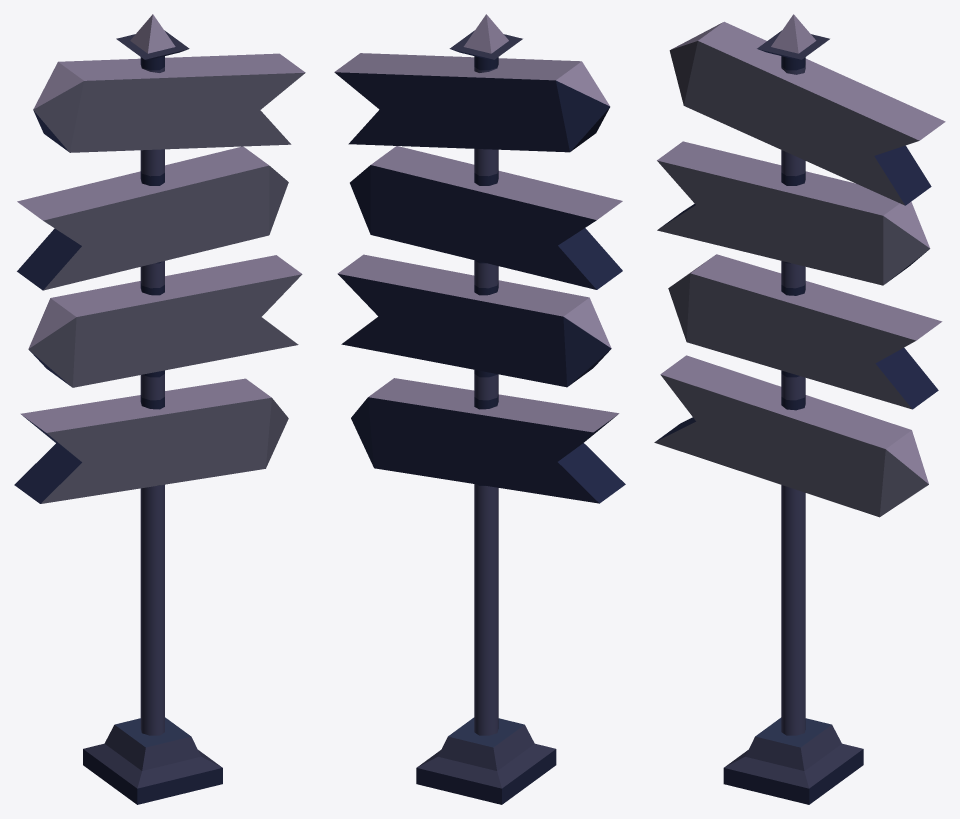
Rendered from Sigh.fbx.
The picture shows the model from 3 angles, left to right: view 1: azimuth 30°, elevation 25°; view 2: azimuth 150°, elevation 25°; view 3: azimuth 330°, elevation 25°; orthographic projection.
Visible parts, largest first — view 1: PlacaSeta; view 2: PlacaSeta; view 3: PlacaSeta.
Boxes of the visible parts, x1,y1,x2,y2 form: PlacaSeta: (14,14,305,804); PlacaSeta: (334,14,625,804); PlacaSeta: (654,14,945,804).
Bounding box in the file's own units: 56.4 × 154 × 20.
